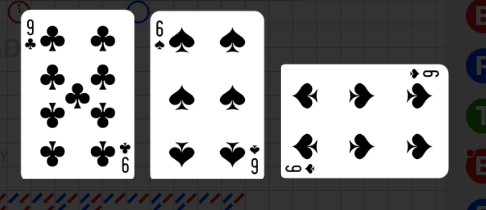6S: (406, 66, 440, 80), (248, 142, 260, 175)
9C: (117, 140, 131, 174)
